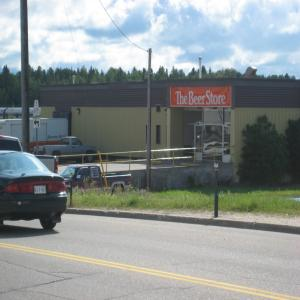Vehicle-registration-plate: (35, 186, 48, 195)
